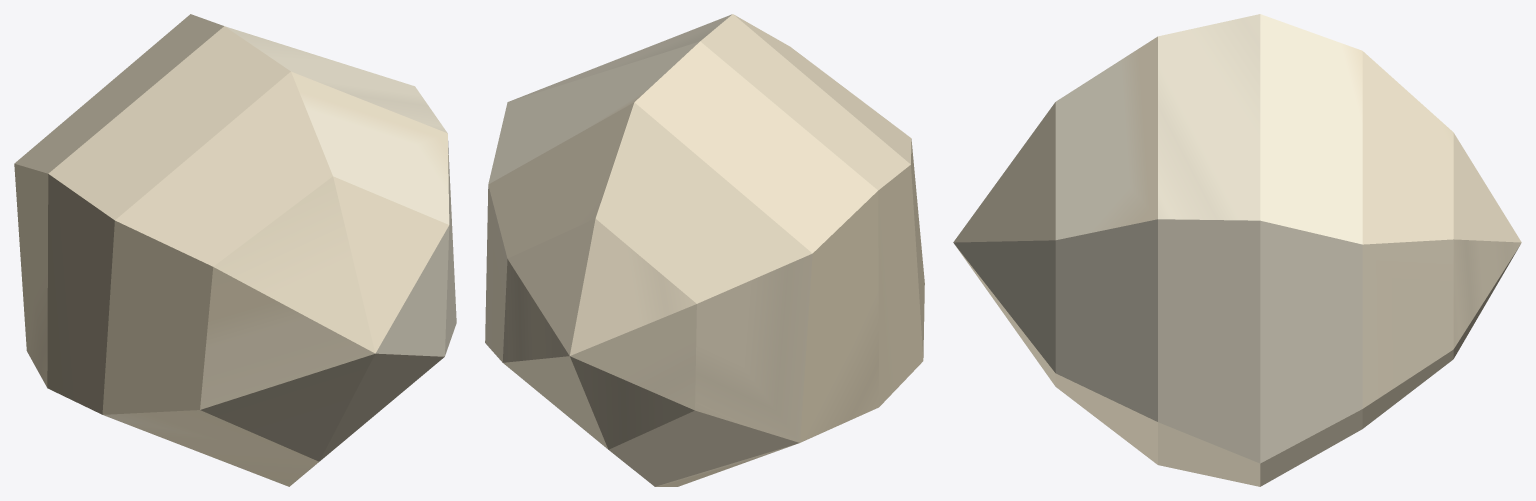
File: egg.fbx
3 renders of one model, left to right at view 1: azimuth 30°, elevation 25°; view 2: azimuth 150°, elevation 25°; view 3: azimuth 270°, elevation 25°, orthographic. The views are drawn at different scales.
Visible parts, largest first — view 1: egg; view 2: egg; view 3: egg.
Boxes of the visible parts, bbox=[...] form: egg: bbox=[14, 14, 456, 486]; egg: bbox=[485, 14, 924, 486]; egg: bbox=[953, 14, 1521, 486].
Bounding box in the file's own units: 5.41 × 6.27 × 7.
